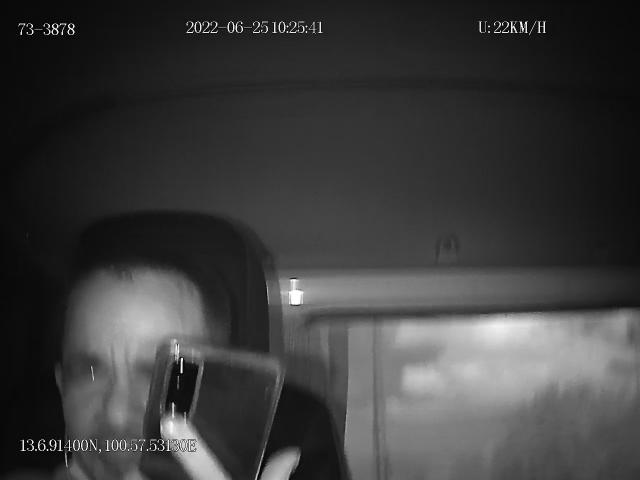Phone: (140, 340, 286, 480)
